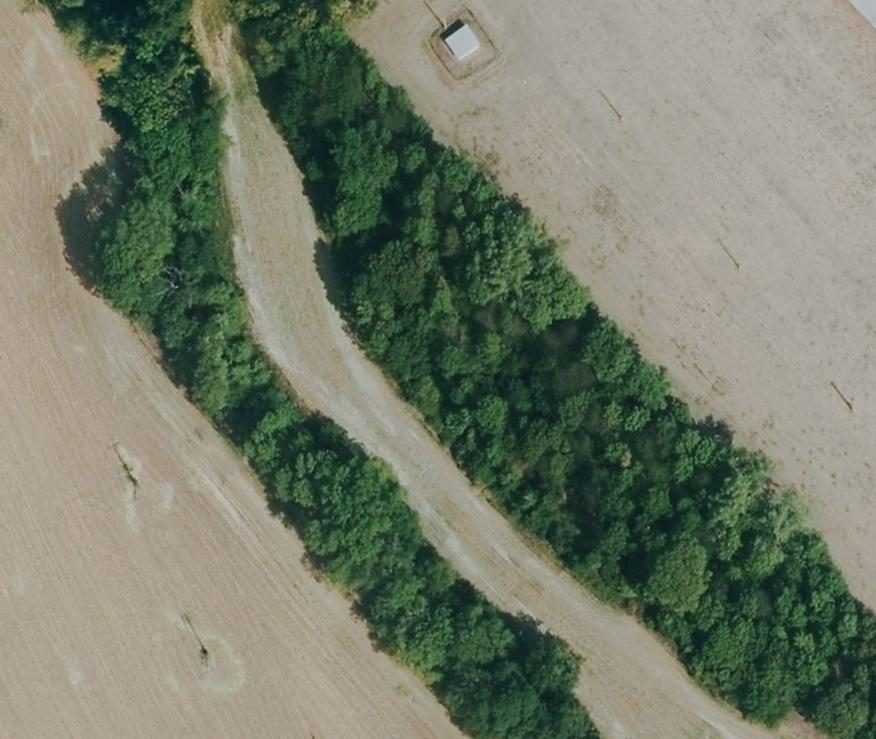field: (198, 5, 814, 737), (0, 2, 459, 735), (353, 0, 876, 610)
forest: (233, 0, 876, 737), (51, 2, 595, 737)
